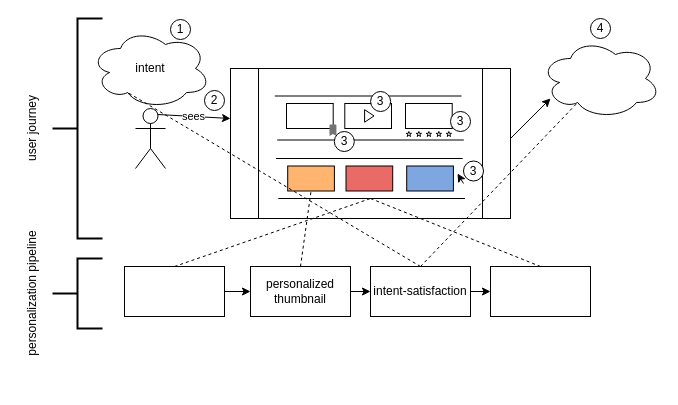
The diagram is 678 pixels wide and 405 high, and some of its shapes have lost their labels. The shapes that lost their labels are listed below. From the top down, each one's centre as x and y in pixels, then its label:
At (600,78): "satisfaction".
At (150,138): "user".
At (174,291): "personalized recommendation strip".
At (540,291): "recommendation diversity".
